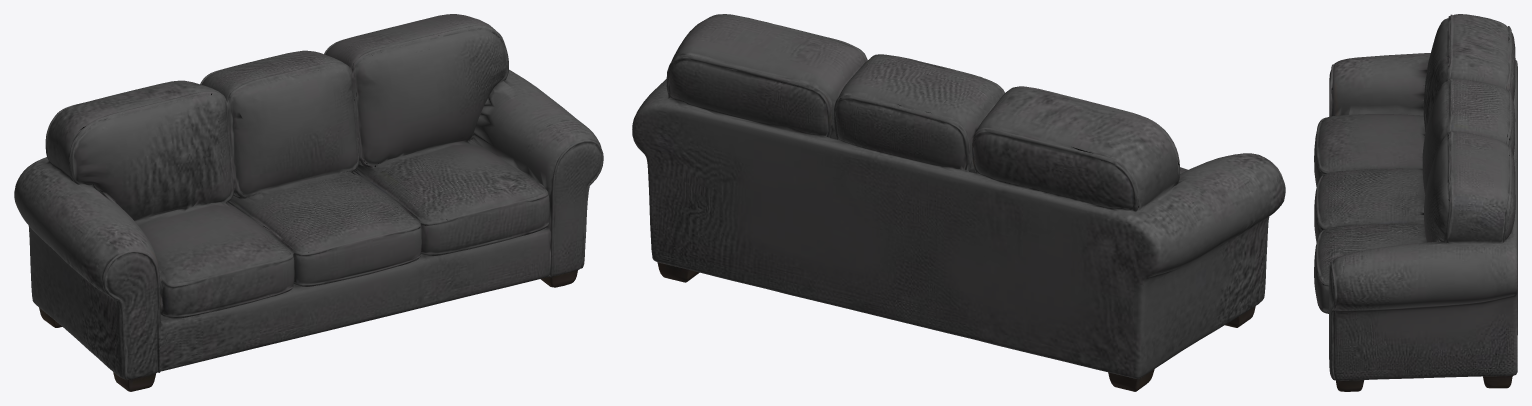
File: sofa_grey.glb
3 renders of one model, left to right at view 1: azimuth 30°, elevation 25°; view 2: azimuth 150°, elevation 25°; view 3: azimuth 270°, elevation 25°, orthographic. The views are drawn at different scales.
Parts seen in each view (by area): view 1: sofa_grey; view 2: sofa_grey; view 3: sofa_grey.
Part boxes in pixels (x1,y1,x2,y2): sofa_grey: (14, 14, 603, 391); sofa_grey: (632, 14, 1285, 391); sofa_grey: (1314, 14, 1517, 391).
Size of the model in its own units: 2.2 by 0.9197 by 0.8543.
1 material, 1 textured.
